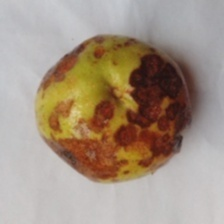guava: (31, 35, 176, 217)
